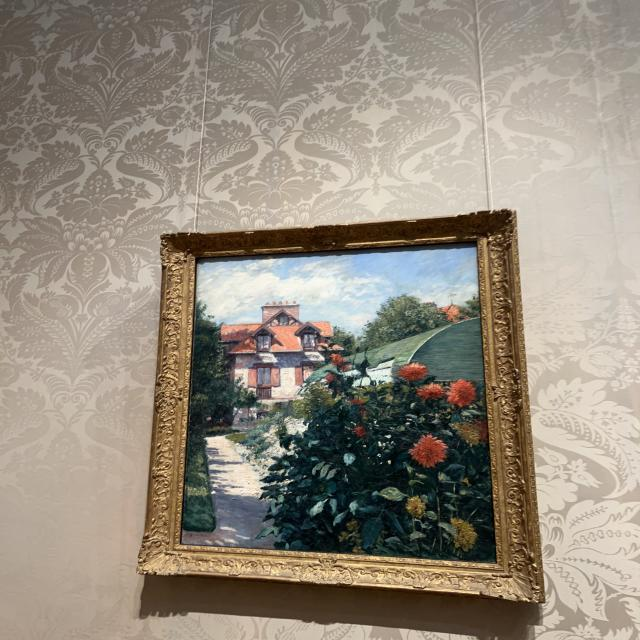summer: (179, 241, 498, 564)
